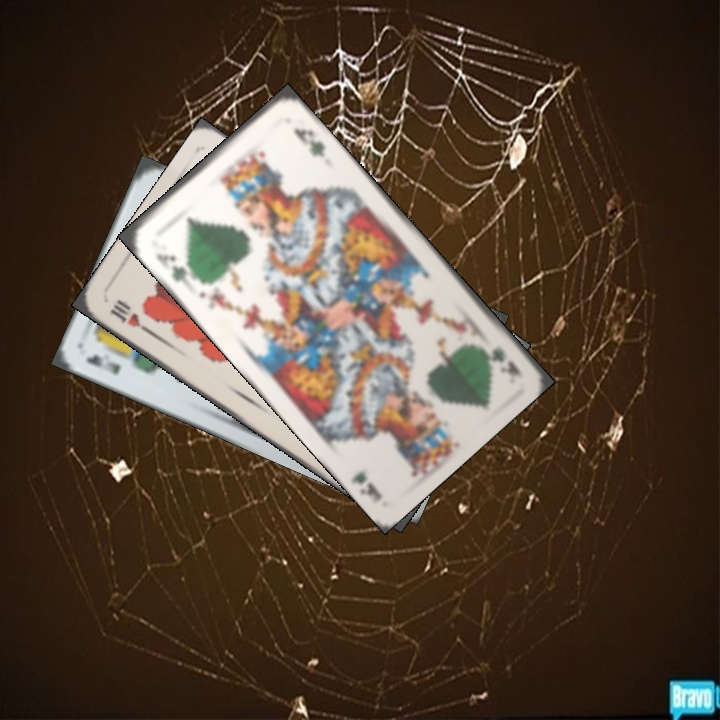EK: (83, 350, 123, 378)
GK: (474, 339, 523, 379), (152, 249, 196, 288)
H10: (106, 295, 155, 337)
